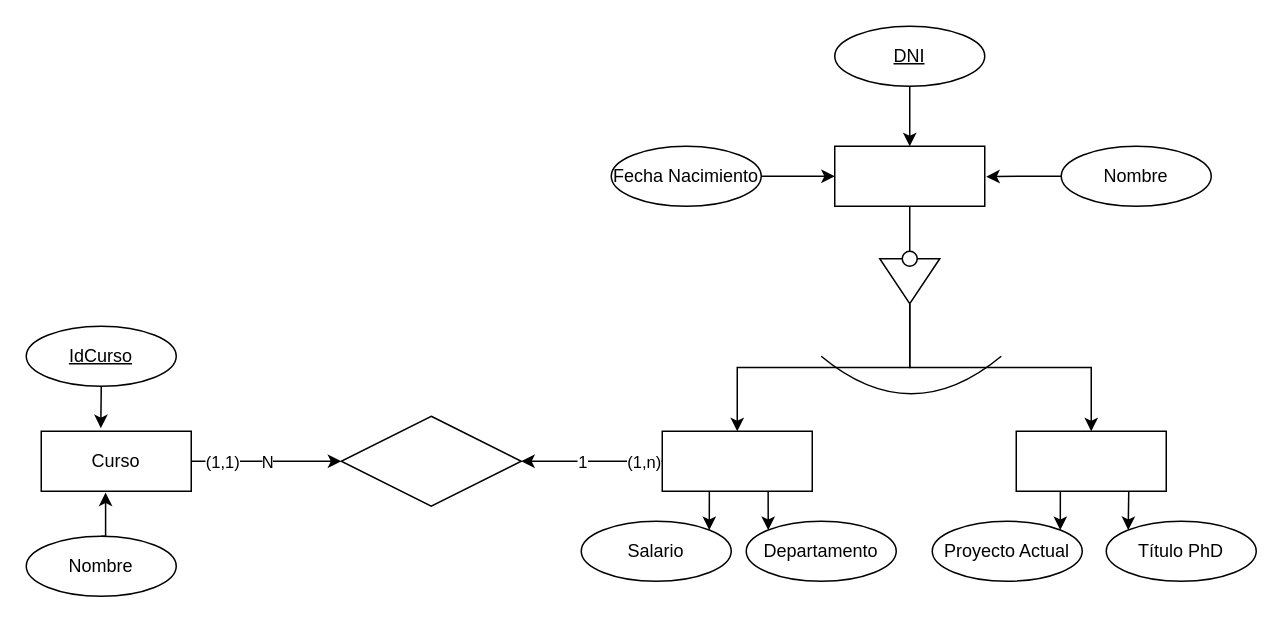
Image size: 1283x623. Some labels were removed from this diagram. The shapes that lost their labels are listed below. From the top down, each one's box as (x1, y1, x2, y2) in pixels, then its label:
(833, 145, 985, 206): Persona
(340, 415, 521, 506): Imparte
(661, 430, 812, 491): Profesor
(1015, 430, 1166, 491): Investigador
